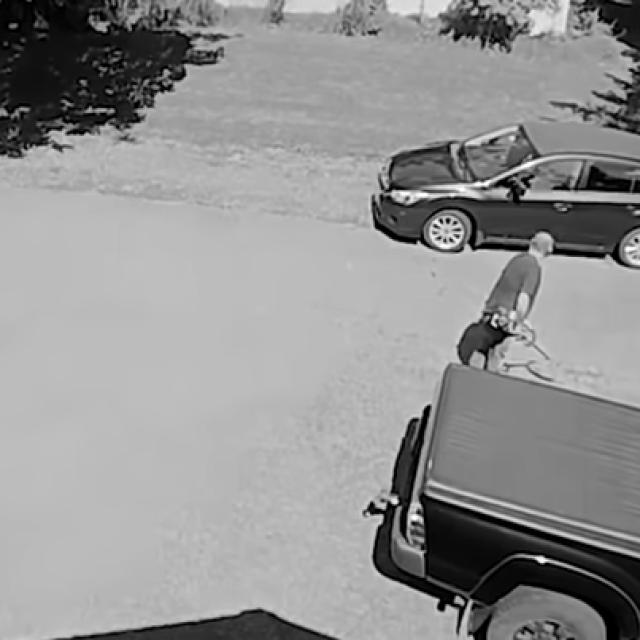Invader: (454, 229, 556, 372)
